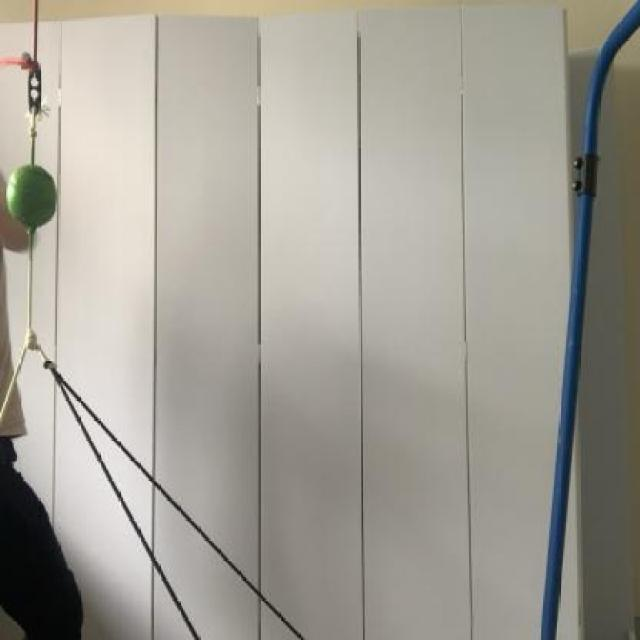baseball: (5, 152, 64, 248)
